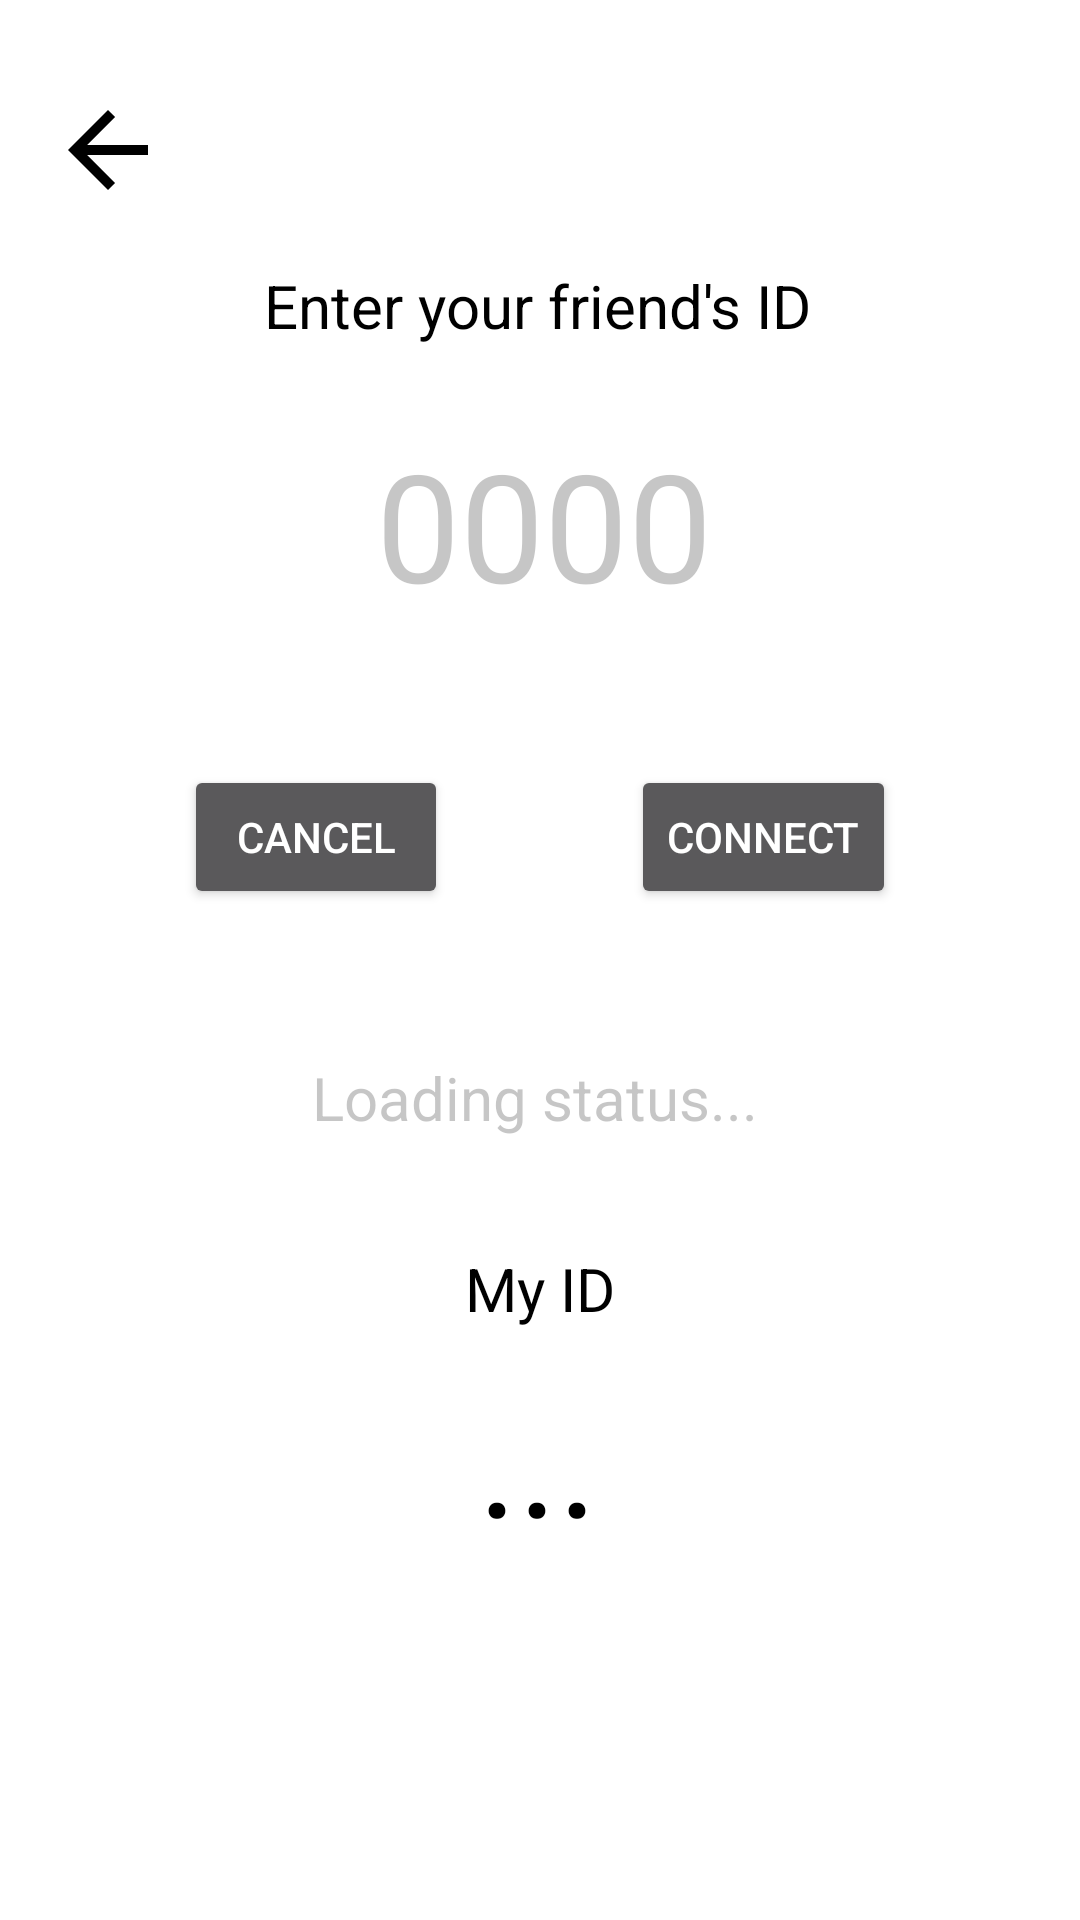

Locate icon controls on the screen. Image size 1080px×1920px, boxes as (x1, y1, x2, y2).
arrow back: (68, 110, 148, 190)
